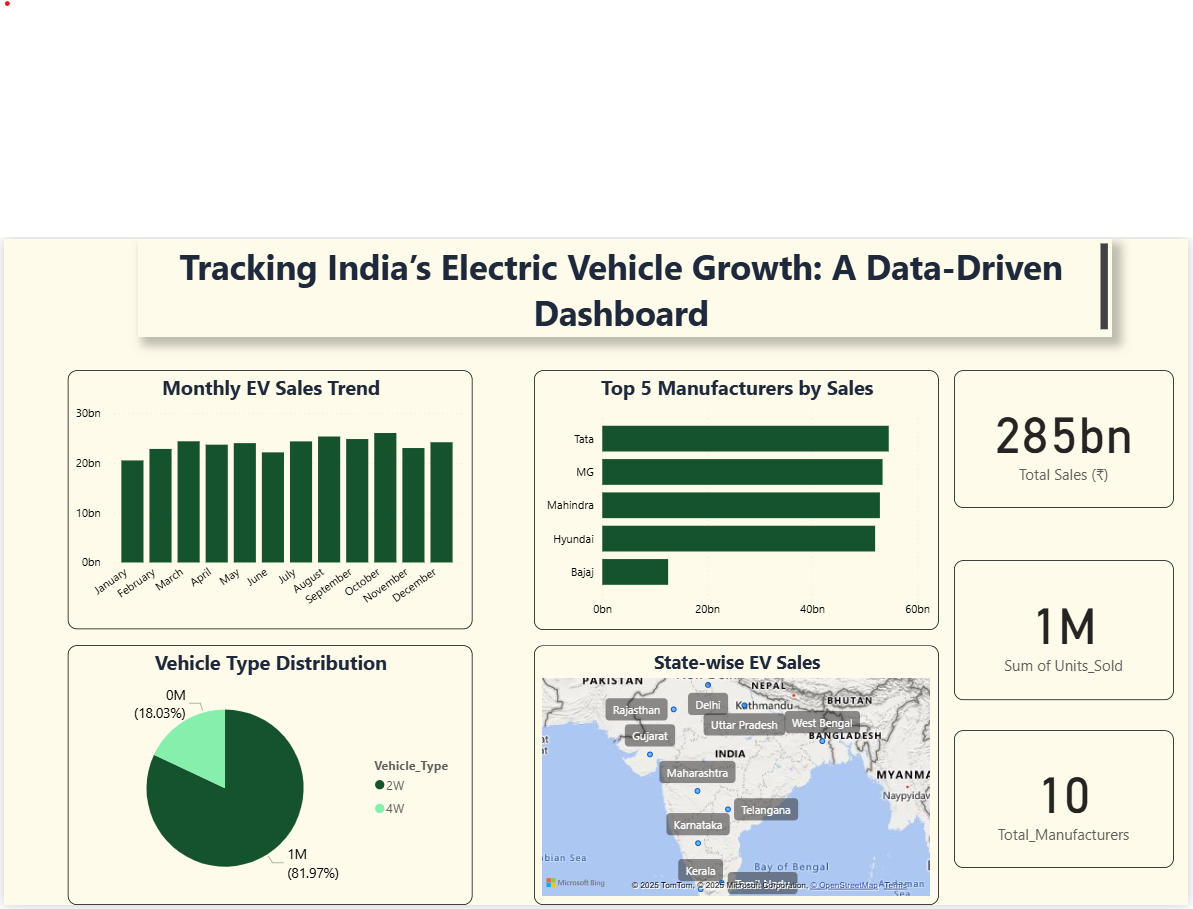

The dashboard page shown, as its layout file describes it:
{"tool":"powerbi","page":{"name":"EV_Sales","canvas":[1280,720],"ordinal":0},"visuals":[{"type":"clusteredColumnChart","title":"Monthly EV Sales Trend","fields":{"Category":["EV_Sales_2024.Month.Variation.Date Hierarchy.Month"],"Y":["EV_Sales_2024.Total Sales (₹)"]},"box":[68.9,142.2,437.8,280],"z":0},{"type":"clusteredBarChart","title":"Top 5 Manufacturers by Sales","fields":{"Category":["EV_Sales_2024.Manufacturer"],"Y":["EV_Sales_2024.Total Sales (₹)"]},"box":[573.6,141.7,437.5,280.6],"z":1000},{"type":"pieChart","title":"Vehicle Type Distribution","fields":{"Category":["EV_Sales_2024.Vehicle_Type"],"Y":["Sum(EV_Sales_2024.Units_Sold)"]},"box":[69.4,438.9,437.5,280.6],"z":2000},{"type":"map","title":"State-wise EV Sales","fields":{"Category":["EV_Sales_2024.State"]},"box":[573.6,438.9,437.5,280.6],"z":3000},{"type":"card","fields":{"Values":["EV_Sales_2024.Total Sales (₹)"]},"box":[1027.1,142.4,237.3,149.2],"z":3001},{"type":"card","fields":{"Values":["Sum(EV_Sales_2024.Units_Sold)"]},"box":[1027.1,347.5,237.3,150.8],"z":3002},{"type":"card","fields":{"Values":["EV_Sales_2024.Total_Manufacturers"]},"box":[1027.1,530.5,237.3,149.2],"z":3003},{"type":"textbox","box":[145.1,0,1053.5,105.6],"z":3004}]}

Visuals, with their boxes on the page's 1280x720 design canvas (x1, y1, x2, y2). These are canvas units, not pixel positions in the 1193x909 screenshot, which may show the page scaled, cropped or inside an application window:
"Monthly EV Sales Trend" clusteredColumnChart: 69:142:507:422
"Top 5 Manufacturers by Sales" clusteredBarChart: 574:142:1011:422
"Vehicle Type Distribution" pieChart: 69:439:507:720
"State-wise EV Sales" map: 574:439:1011:720
card - EV_Sales_2024.Total Sales (₹): 1027:142:1264:292
card - Sum(EV_Sales_2024.Units_Sold): 1027:348:1264:498
card - EV_Sales_2024.Total_Manufacturers: 1027:530:1264:680
textbox: 145:0:1199:106
